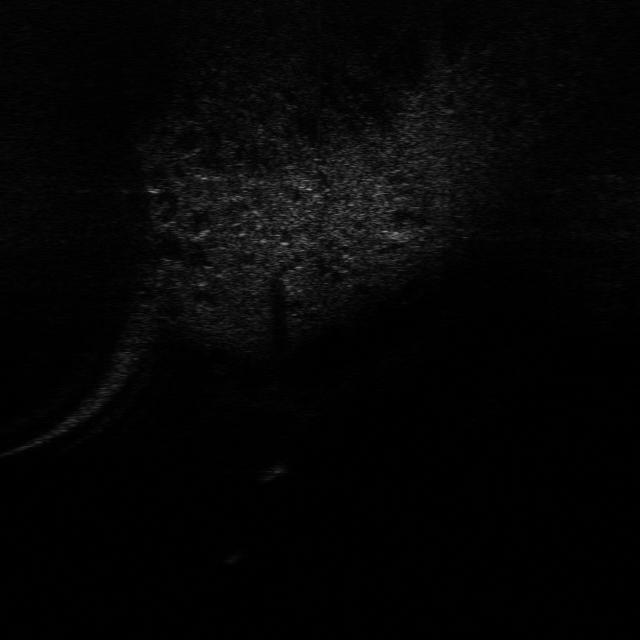cylinder: (252, 455, 292, 486)
